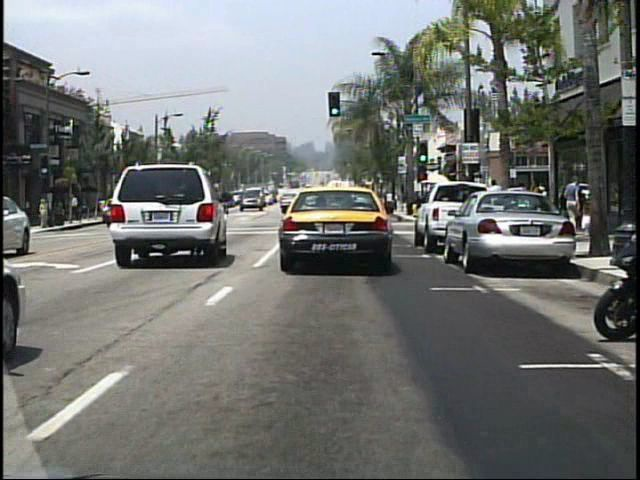person: (526, 177, 547, 236), (564, 173, 584, 232), (579, 195, 594, 235), (38, 196, 52, 231), (71, 191, 84, 223)
